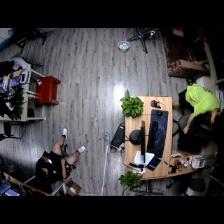normal: (36, 126, 83, 186), (174, 87, 224, 138), (5, 55, 41, 77)
